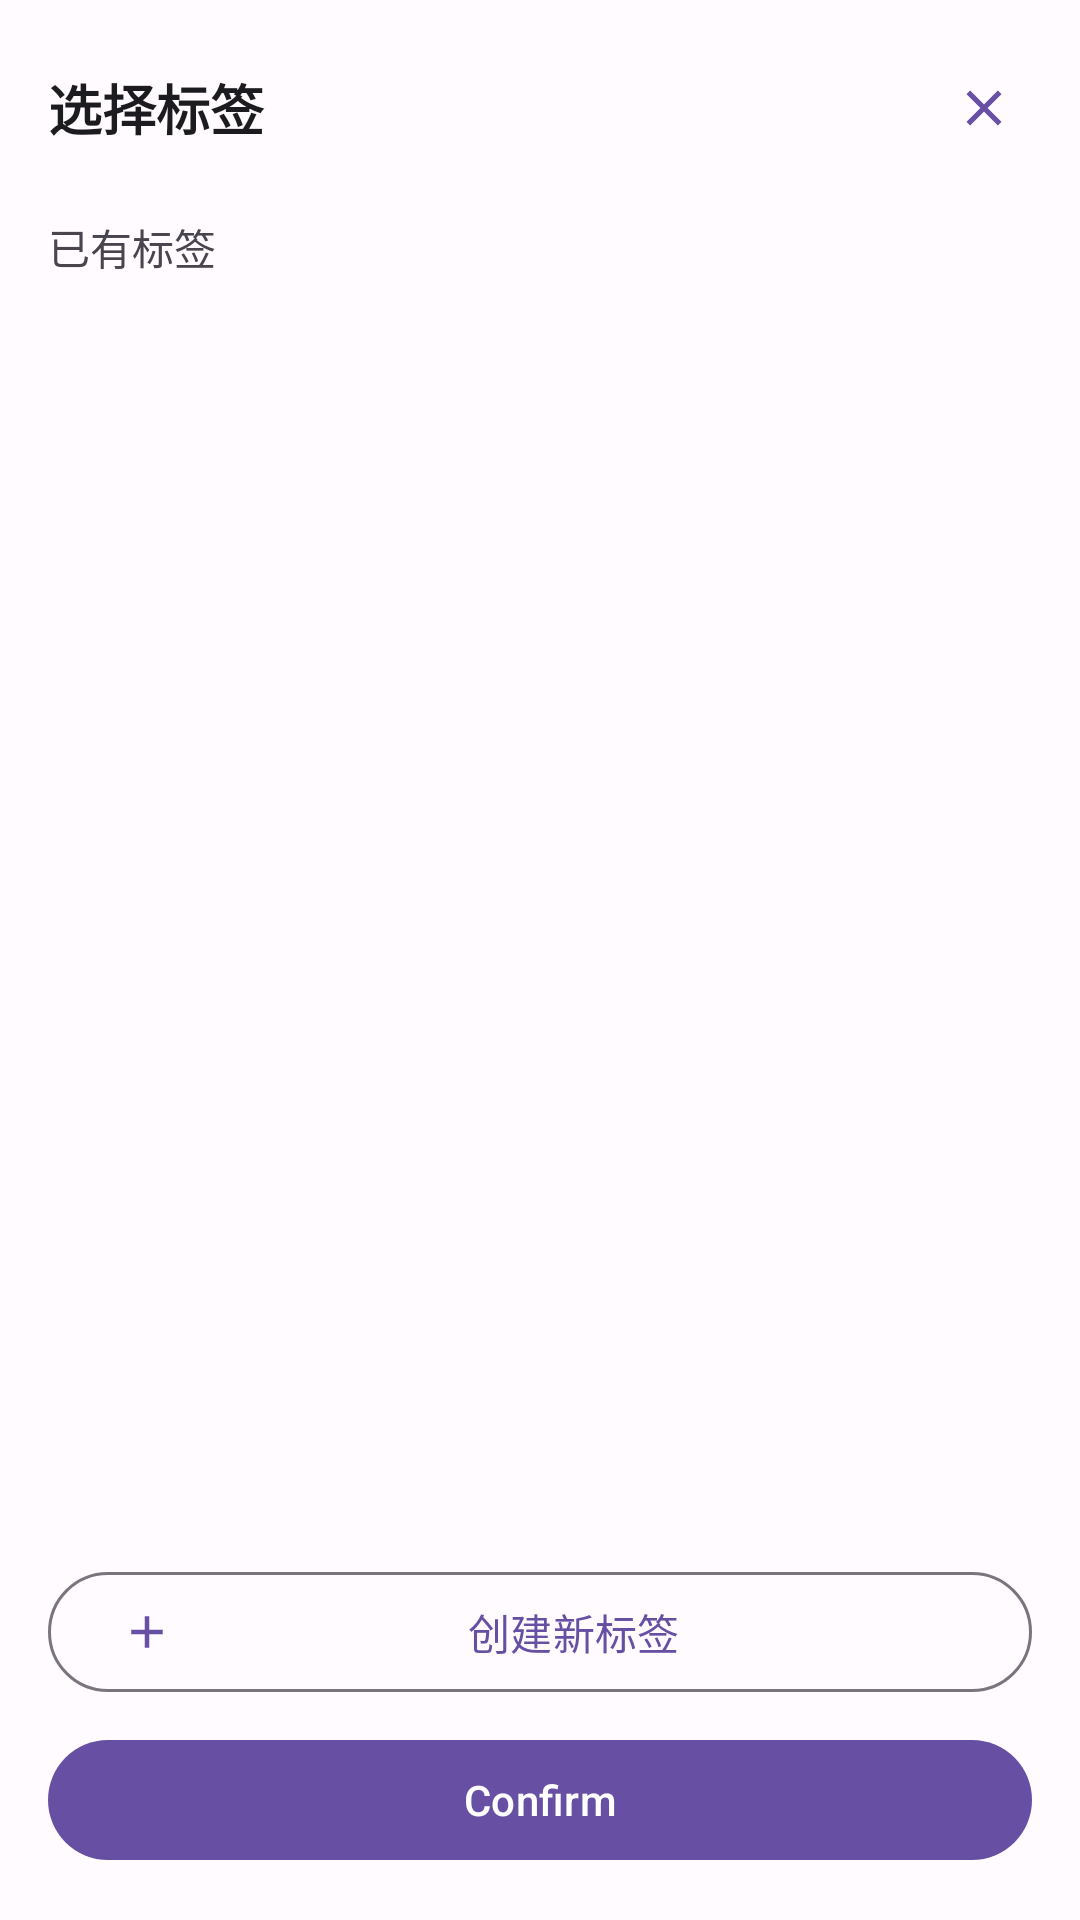

Point at icon controls on the screen. Image size 1080*1920, points as [x,y].
关闭: [984,108]
